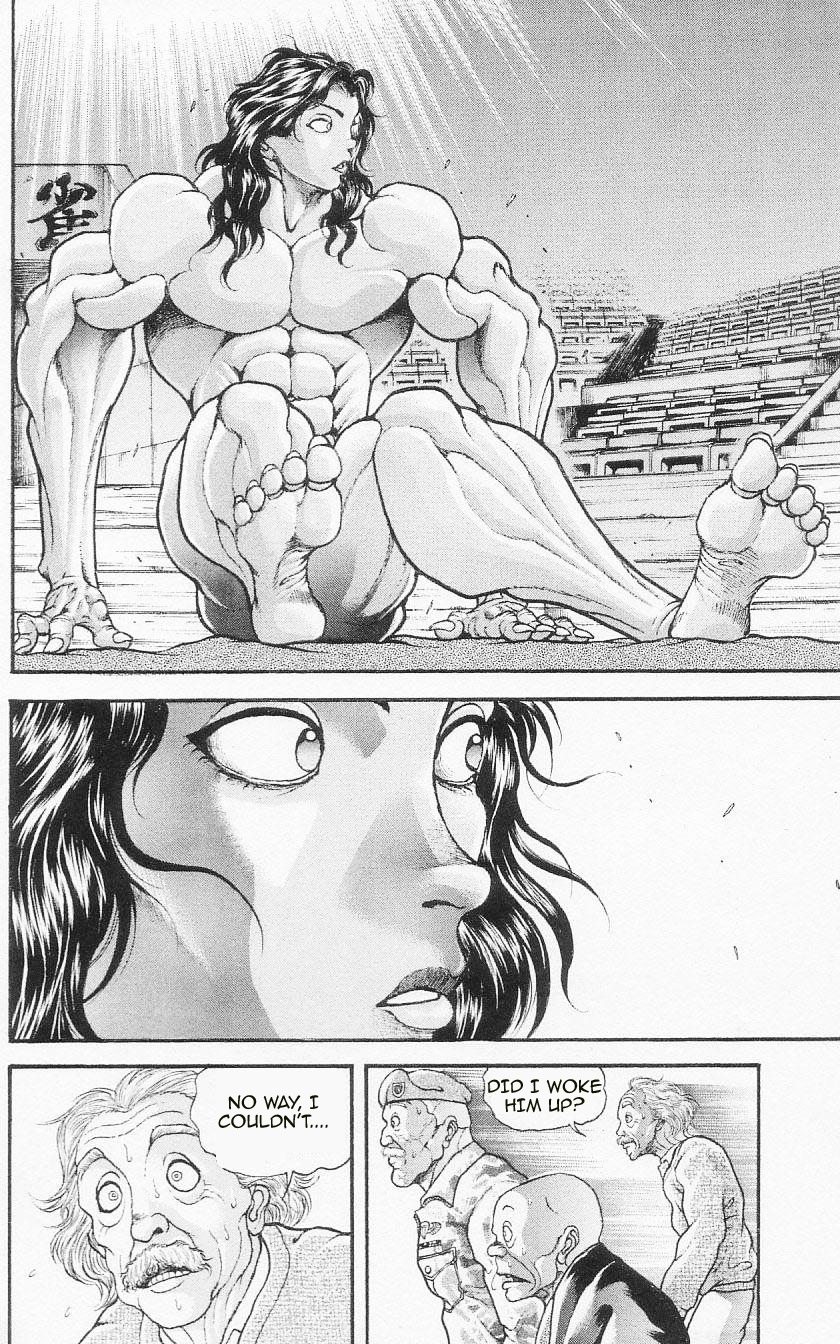Baloon: (194, 1067, 353, 1178), (482, 1065, 604, 1135)
Vignetta: (10, 1, 837, 669), (6, 694, 837, 1041), (368, 1061, 758, 1344), (6, 1063, 351, 1344)
